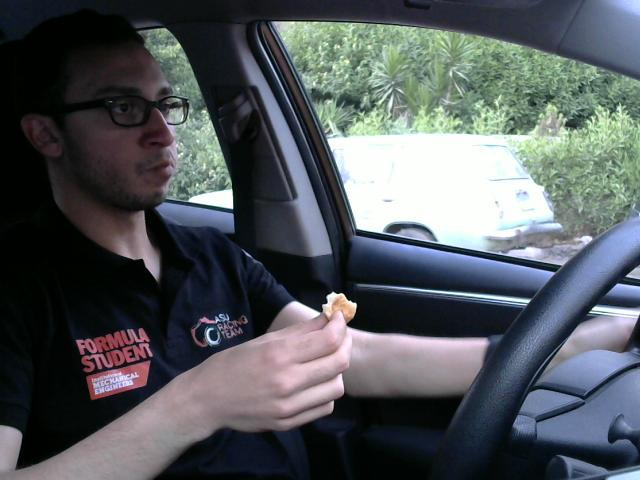Eating: (319, 288, 360, 332)
